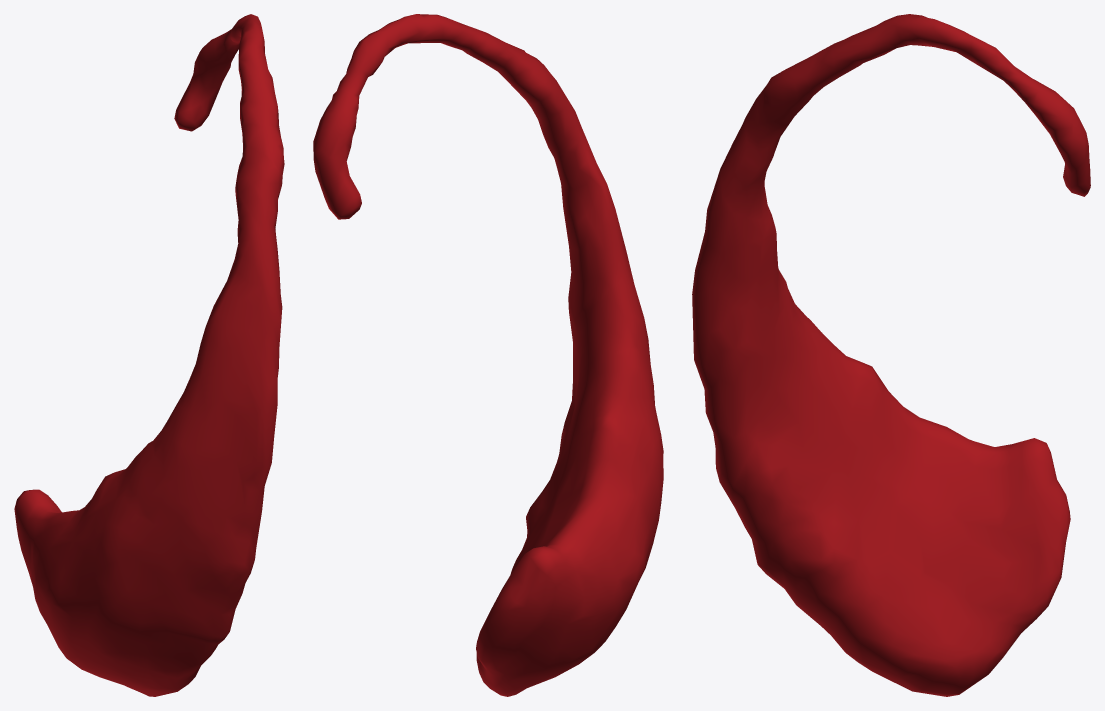
The model's file is left_caudate.obj.
3 renders of one model, left to right at view 1: azimuth 30°, elevation 25°; view 2: azimuth 150°, elevation 25°; view 3: azimuth 270°, elevation 25°, orthographic. The views are drawn at different scales.
Visible parts, largest first — view 1: left_caudate_left_caudate; view 2: left_caudate_left_caudate; view 3: left_caudate_left_caudate.
Part boxes in pixels (<box>): left_caudate_left_caudate: <box>14,14,284,696</box>; left_caudate_left_caudate: <box>313,14,663,696</box>; left_caudate_left_caudate: <box>692,14,1090,696</box>.
Size of the model in its own units: 2.66 by 6.48 by 3.19.
